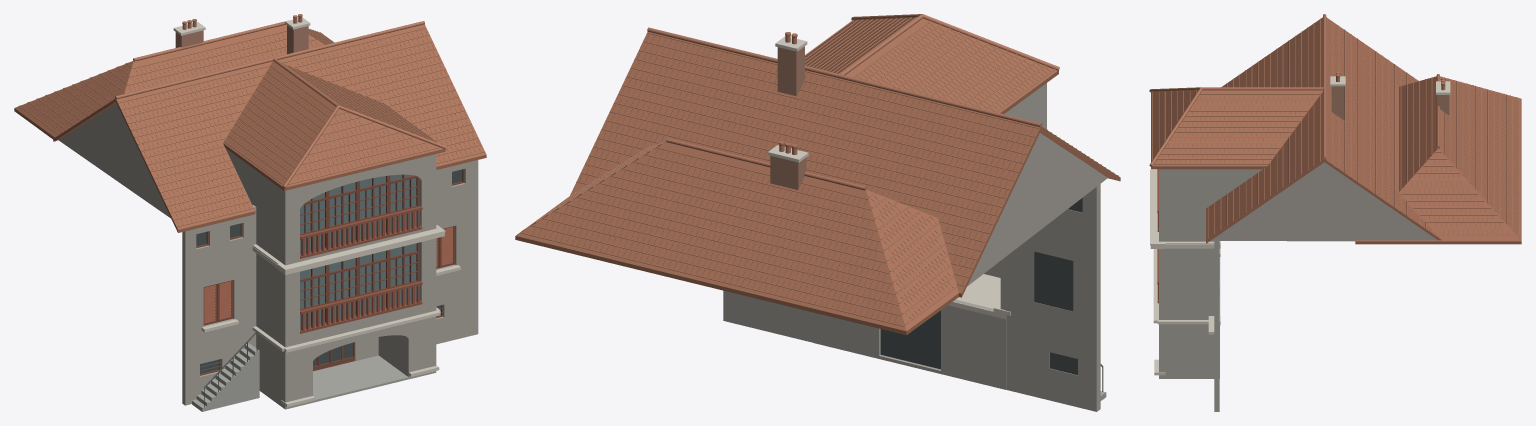
File: huangpu-sinan-road-73-garden-front-web.glb
3 renders of one model, left to right at view 1: azimuth 30°, elevation 25°; view 2: azimuth 150°, elevation 25°; view 3: azimuth 270°, elevation 25°, orthographic. The views are drawn at different scales.
Parts seen in each view (by area): view 1: 思南路73号周公馆庭院立面; view 2: 思南路73号周公馆庭院立面; view 3: 思南路73号周公馆庭院立面.
Part boxes in pixels (x1=…): 思南路73号周公馆庭院立面: x1=14, y1=14, x2=486, y2=411; 思南路73号周公馆庭院立面: x1=515, y1=14, x2=1120, y2=411; 思南路73号周公馆庭院立面: x1=1149, y1=14, x2=1521, y2=411.
Bounding box in the file's own units: 14.51 × 13.4 × 15.88.
